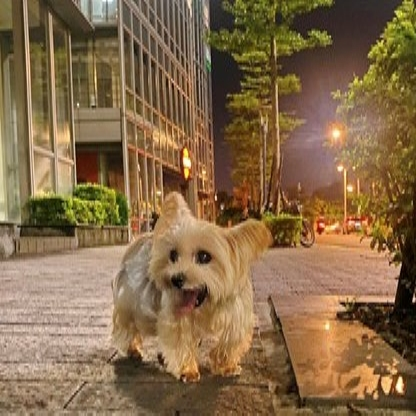yorkshire: (106, 190, 275, 385)
